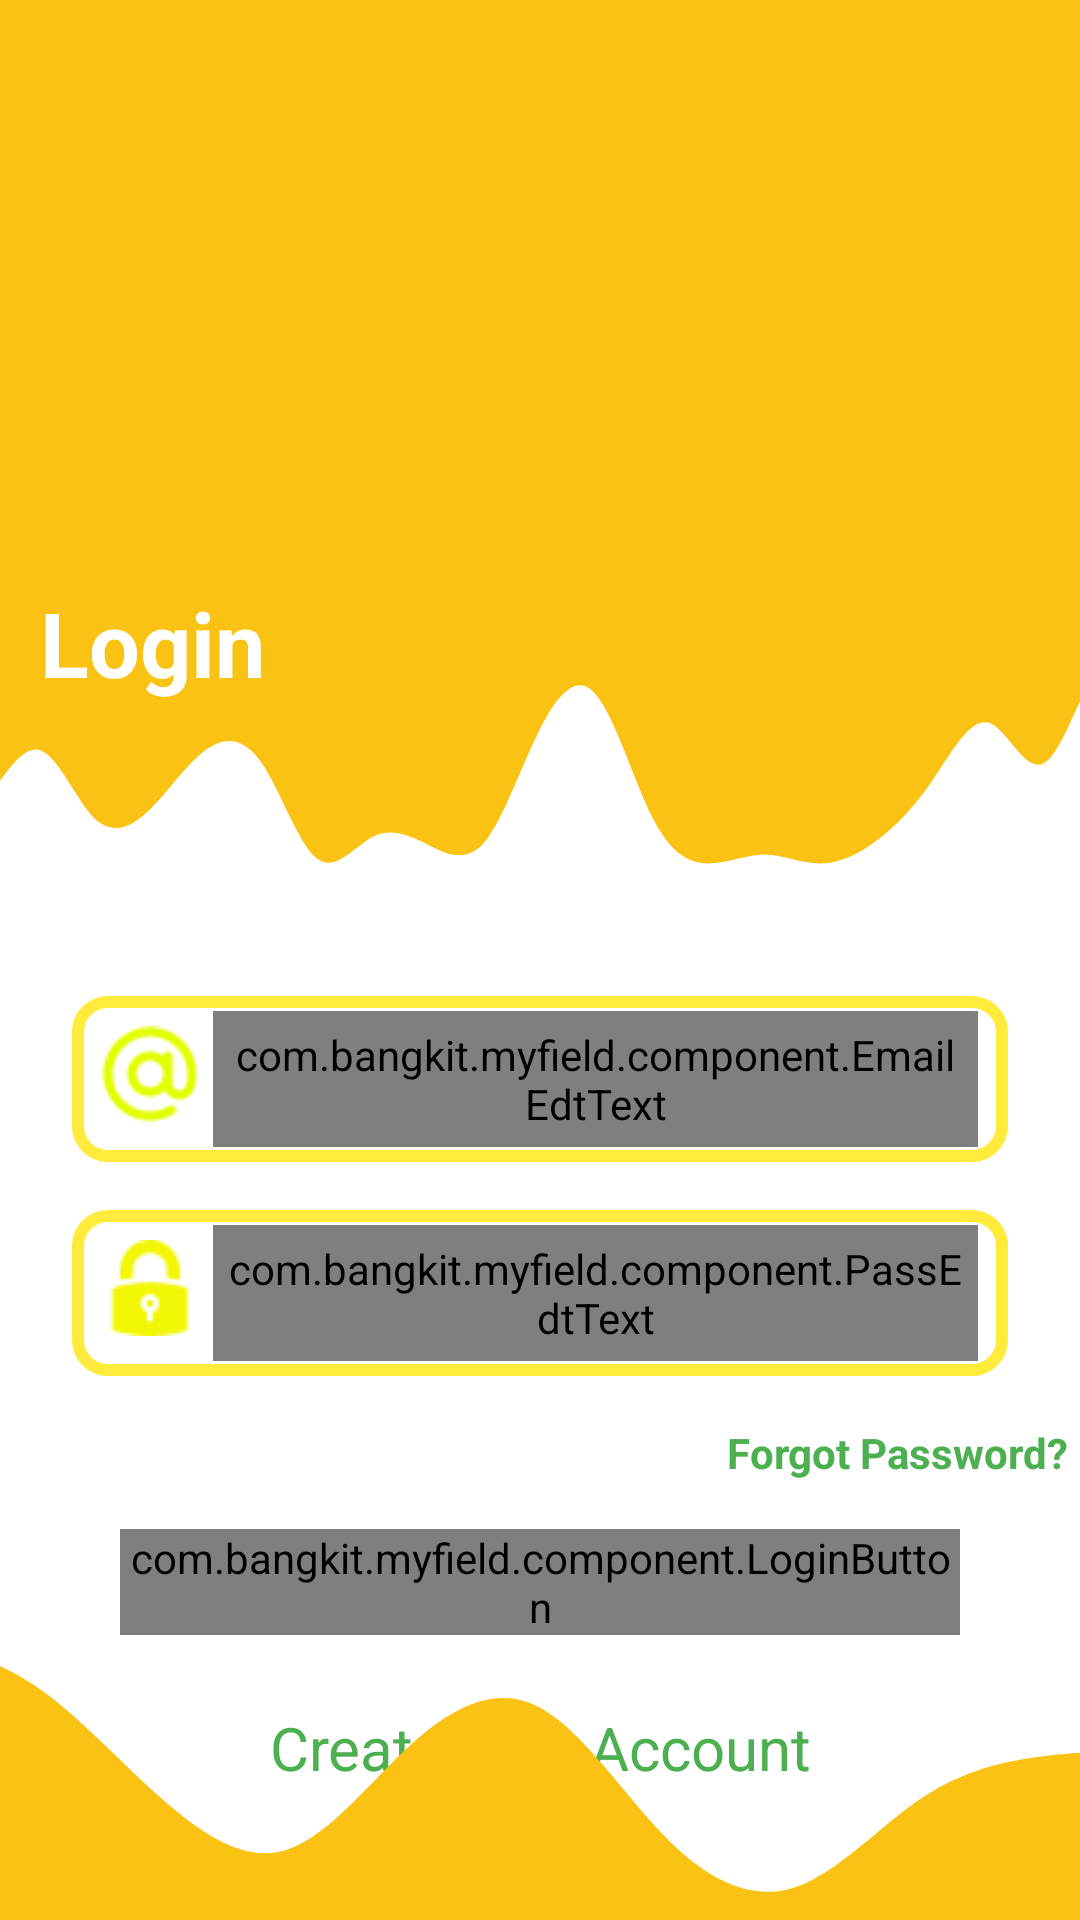

Screen size 1080×1920. Icon name, then its box in pixels as BBox(x1, y1, x2, y2):
arroba: BBox(102, 1026, 198, 1122)
lock: BBox(110, 1240, 190, 1336)
